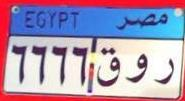6: (10, 41, 28, 86), (30, 42, 48, 86), (50, 43, 68, 86), (71, 44, 87, 86)
qaaf: (95, 46, 121, 88)
raa: (151, 55, 177, 88)
waw: (124, 50, 148, 84)
